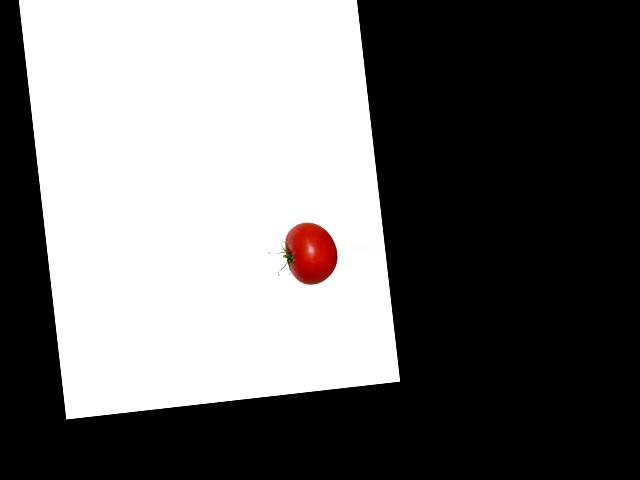tomato: (282, 218, 340, 286)
